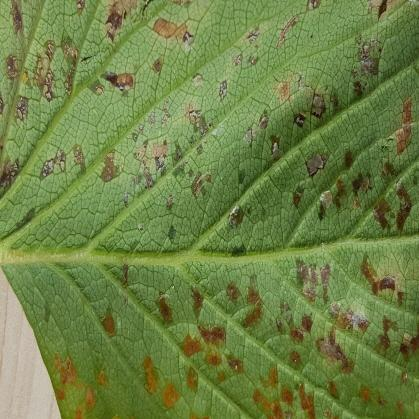Angular Leafspot: (0, 0, 418, 418)
